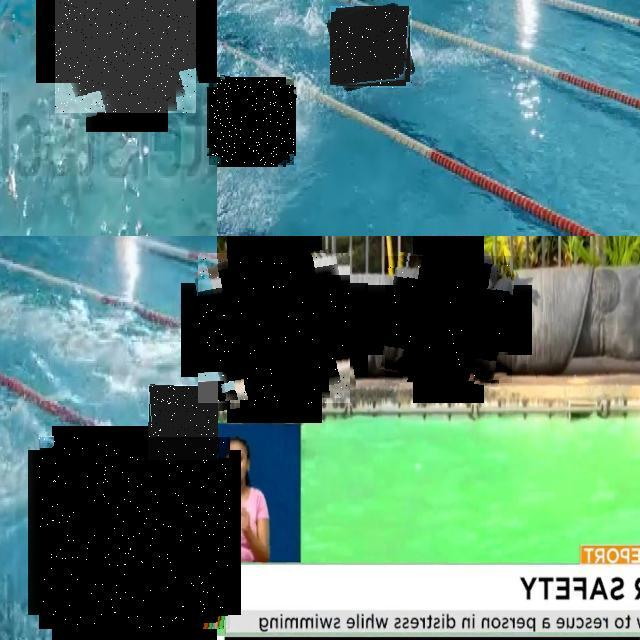3: (55, 0, 196, 113)
6: (39, 437, 230, 629), (209, 79, 294, 165), (330, 6, 412, 88), (148, 385, 218, 460)
drowning: (198, 254, 350, 406), (385, 256, 512, 383)
